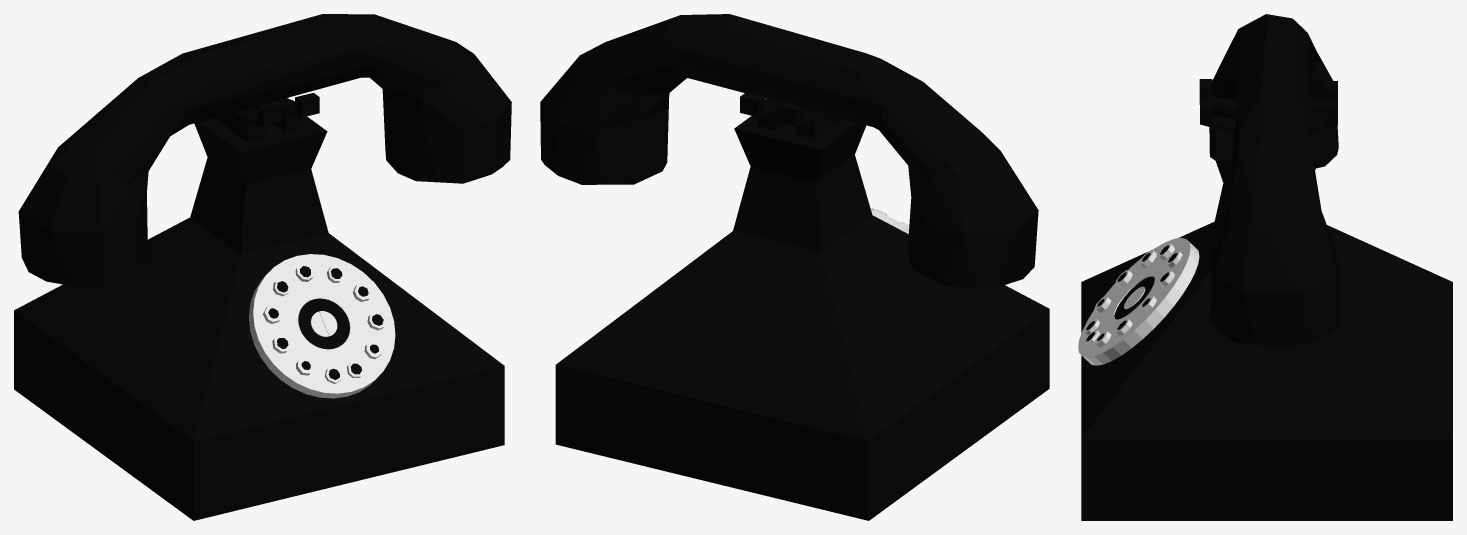
File: Teléfono.fbx
The picture shows the model from 3 angles, left to right: view 1: azimuth 30°, elevation 25°; view 2: azimuth 150°, elevation 25°; view 3: azimuth 270°, elevation 25°; orthographic projection. The views are drawn at different scales.
Parts seen in each view (by area): view 1: Soporte, Teléfono, Rueda; view 2: Soporte, Teléfono; view 3: Soporte, Teléfono, Rueda.
Boxes of the visible parts, x1,y1,x2,y2 form: Soporte: [14, 93, 504, 520]; Teléfono: [18, 14, 511, 287]; Rueda: [248, 254, 395, 398]; Soporte: [555, 92, 1049, 520]; Teléfono: [540, 14, 1038, 288]; Soporte: [1081, 79, 1452, 520]; Teléfono: [1209, 14, 1339, 347]; Rueda: [1078, 237, 1199, 365].
Bounding box in the file's own units: 401 × 308 × 267.
